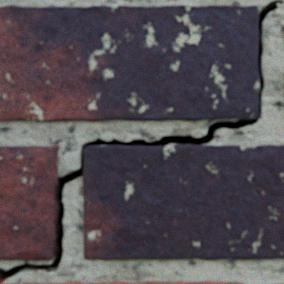brick: (0, 6, 258, 121), (83, 145, 283, 259), (0, 281, 245, 283)
broken_brick: (0, 146, 58, 260)
crack: (0, 0, 283, 282)
